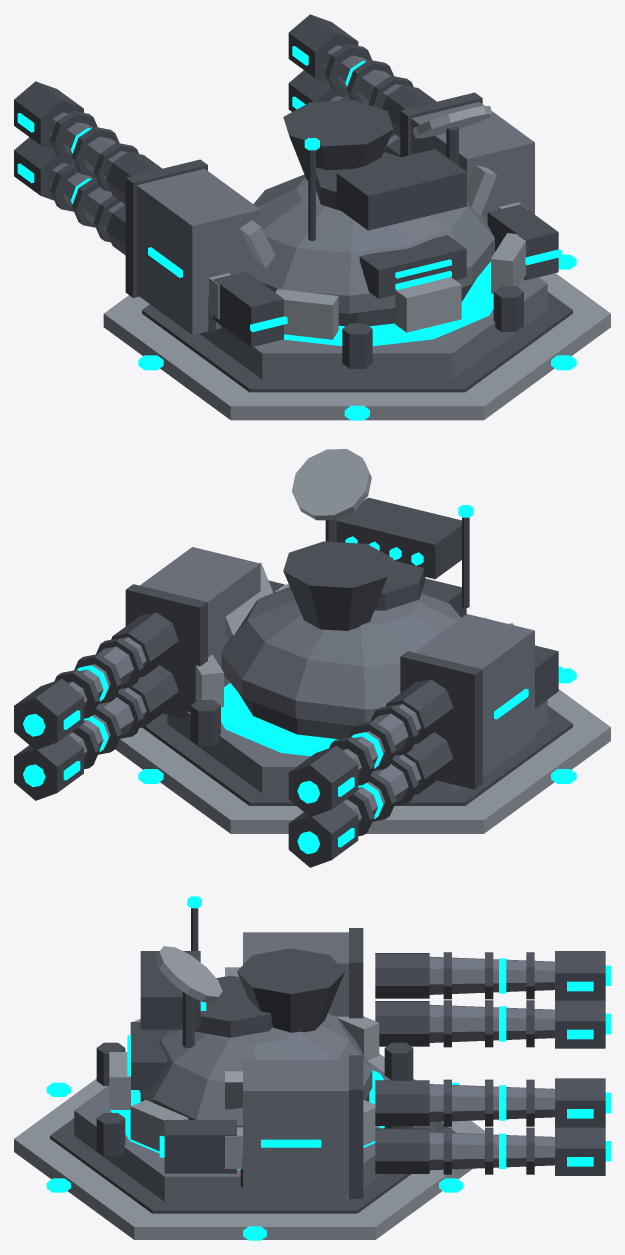
Rendered from turret_lvl7.fbx.
3 renders of one model, top to bottom at view 1: azimuth 30°, elevation 25°; view 2: azimuth 150°, elevation 25°; view 3: azimuth 270°, elevation 25°, orthographic. The views are drawn at different scales.
Parts seen in each view (by area): view 1: BaseTier_73, Dome_05, PodBody_07, Base_01, MissileRack_90, BaseSkirt_02, PodBody_30, CentreSensor_53, SaddleBag_68, BackVent_55, Neon_BaseRing_03, SkirtPlate_88 (+30 smaller); view 2: Dome_05, BaseTier_73, PodBody_07, CentreSensor_53, MissileRack_90, PodPlate_08, PodBody_30, BaseSkirt_02, PodPlate_31, Base_01, RadarDish_81, MuzzleBrake_26 (+30 smaller); view 3: BaseTier_73, PodBody_30, Dome_05, Base_01, CentreSensor_53, BaseSkirt_02, SaddleBag_70, BarrelTube_34, BarrelTube_21, BarrelTube_44, BarrelTube_11, PodBody_07 (+26 smaller).
Boxes of the visible parts, x1,y1,x2,y2 form: BaseTier_73: (103, 273, 610, 420); Dome_05: (246, 174, 494, 313); PodBody_07: (136, 168, 260, 335); Base_01: (200, 277, 547, 379); MissileRack_90: (336, 149, 466, 230); BaseSkirt_02: (142, 292, 572, 392); PodBody_30: (411, 102, 534, 224); CentreSensor_53: (283, 100, 393, 180); SaddleBag_68: (213, 271, 283, 347); BackVent_55: (359, 235, 466, 298); Neon_BaseRing_03: (284, 261, 493, 346); SkirtPlate_88: (395, 277, 461, 332); Dome_05: (221, 587, 460, 725); BaseTier_73: (115, 689, 610, 833); PodBody_07: (414, 614, 534, 777); CentreSensor_53: (283, 541, 393, 630); MissileRack_90: (336, 497, 461, 579); PodPlate_08: (400, 651, 482, 789); PodBody_30: (140, 547, 260, 686); BaseSkirt_02: (142, 705, 572, 805); PodPlate_31: (125, 584, 207, 718); Base_01: (167, 700, 547, 793); RadarDish_81: (292, 449, 371, 520); MuzzleBrake_26: (288, 745, 358, 817); BaseTier_73: (14, 1054, 484, 1239); PodBody_30: (243, 1059, 348, 1194); Dome_05: (139, 1013, 372, 1127); Base_01: (74, 1060, 435, 1201); CentreSensor_53: (237, 948, 345, 1032); BaseSkirt_02: (50, 1118, 455, 1213); SaddleBag_70: (164, 1120, 236, 1173); BarrelTube_34: (429, 1132, 554, 1170); BarrelTube_21: (429, 956, 554, 994); BarrelTube_44: (429, 1084, 554, 1122); BarrelTube_11: (429, 1004, 554, 1042); PodBody_07: (243, 932, 348, 1016).
Size of the model in its own units: 590 by 314 by 743.
